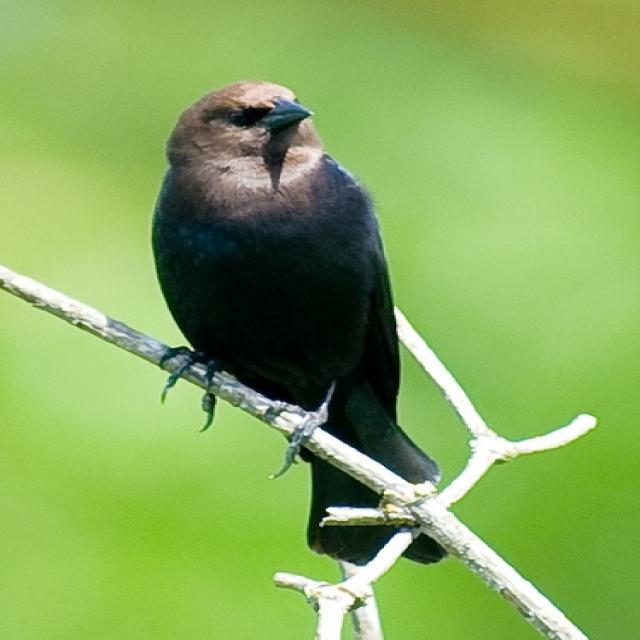bird: (138, 74, 462, 566)
